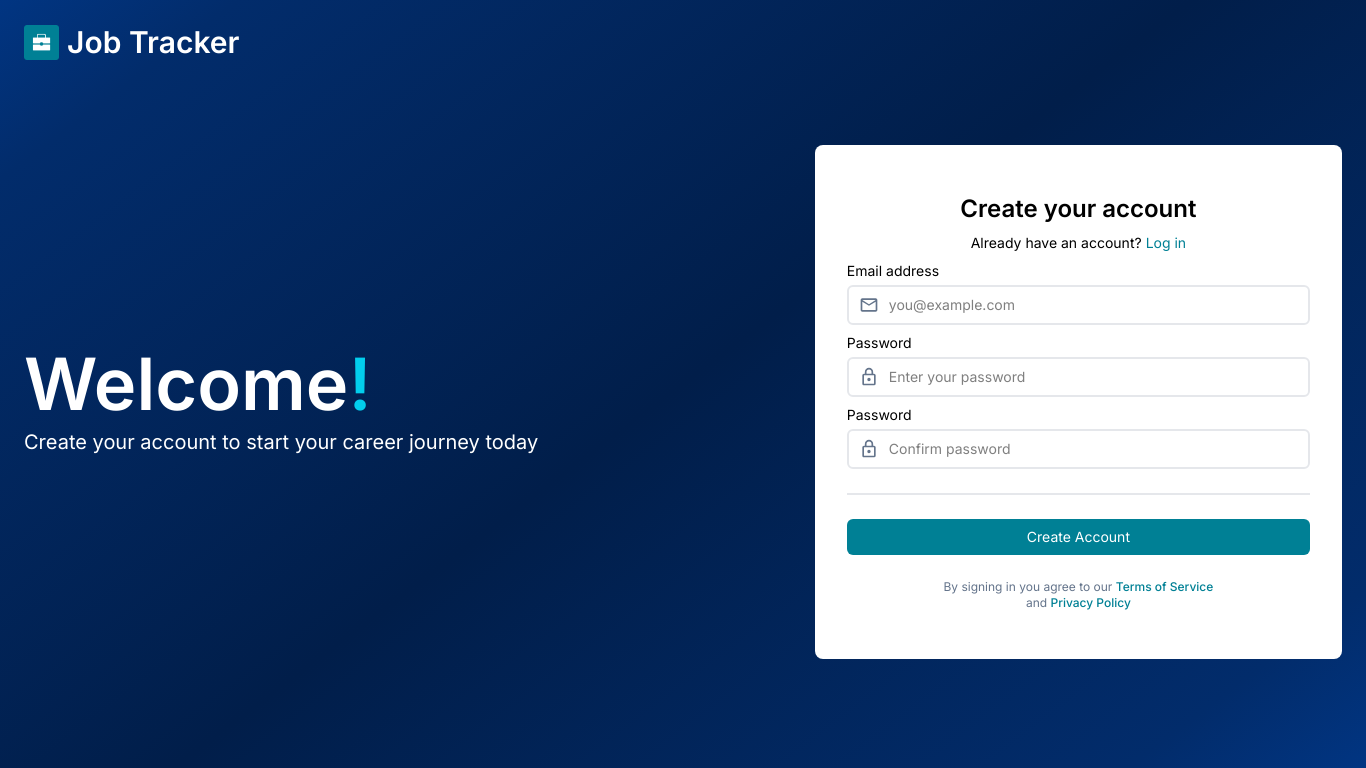
Test case: sign up › link takes user to log in page
Click the link "Log in": (1166, 242) [1146,234,1186,251]
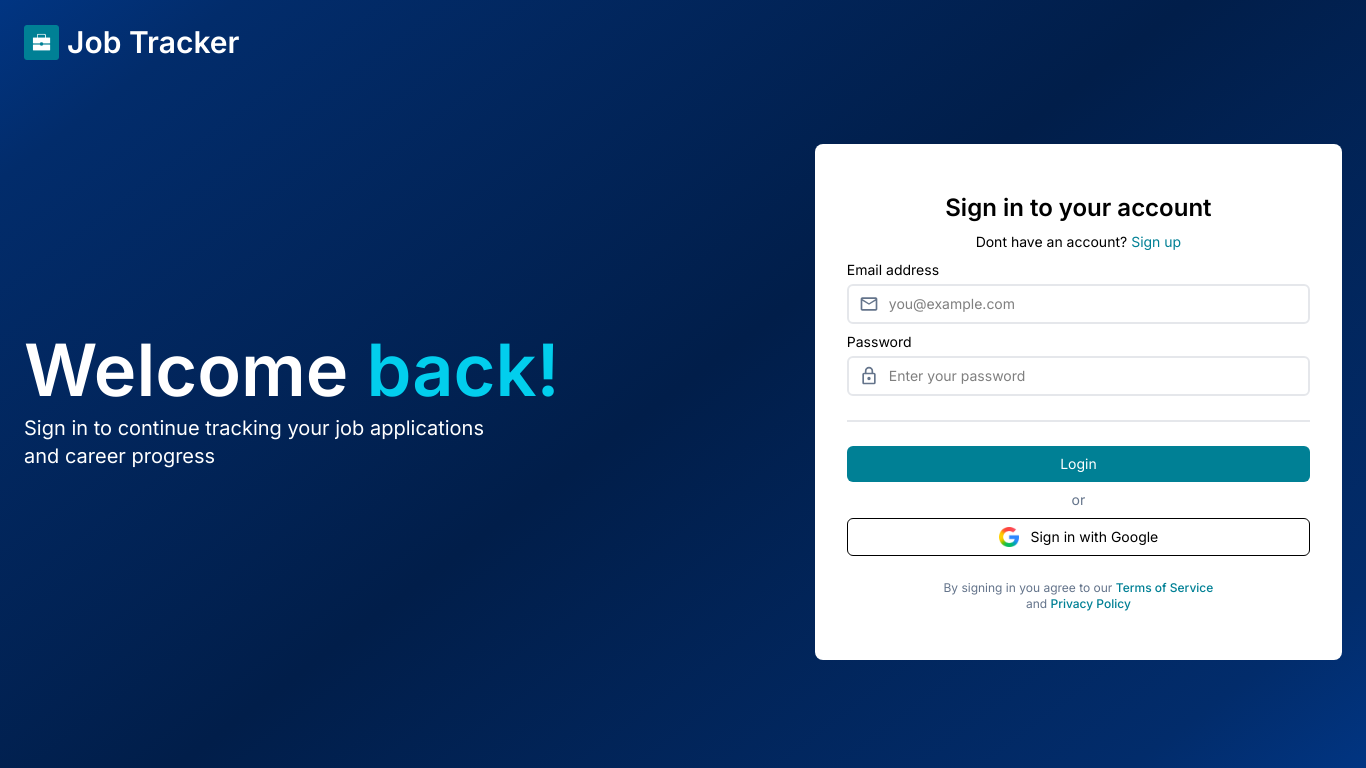
Check: the heading "Sign in to your account" is shown, box [945,192,1212,224]
